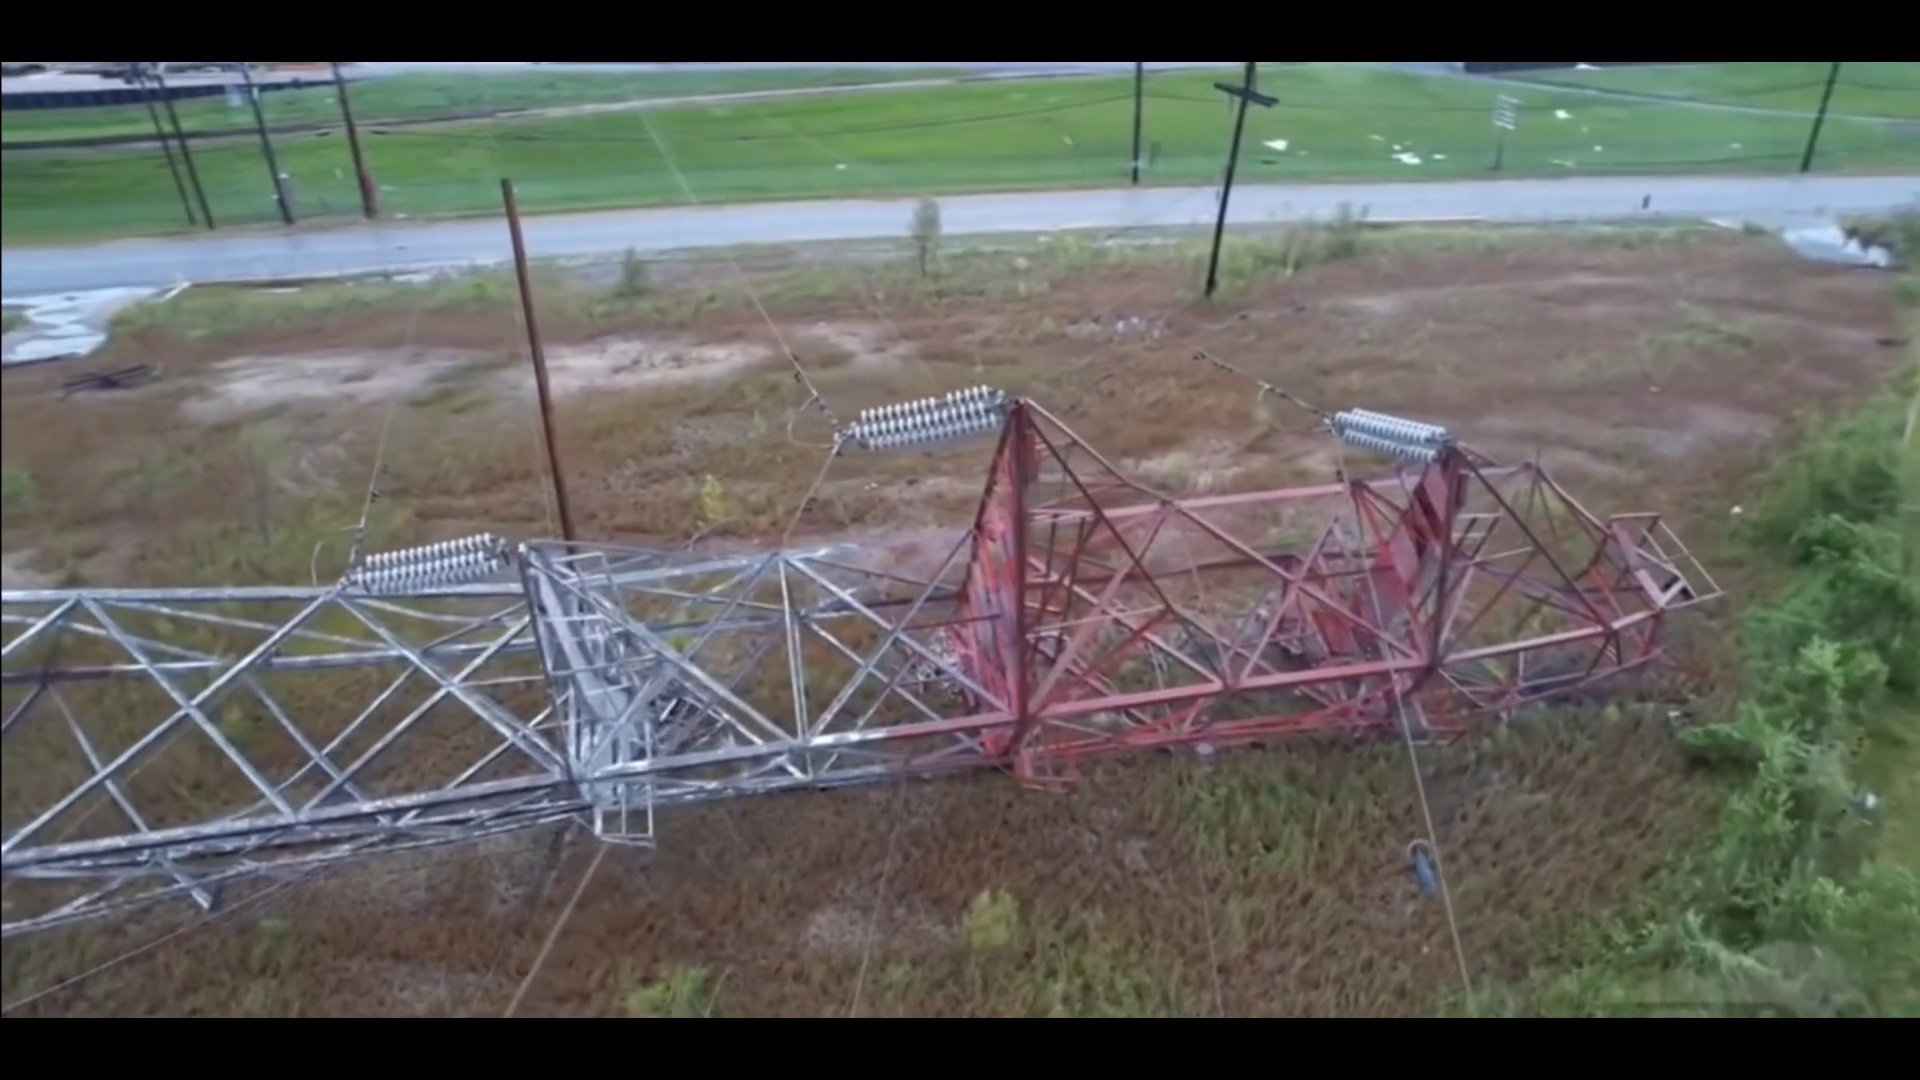tower_down: (13, 365, 1704, 894)
